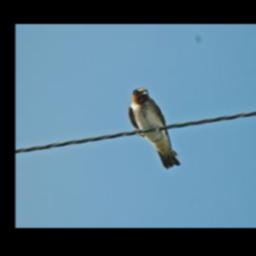Swallow: (128, 85, 183, 169)
